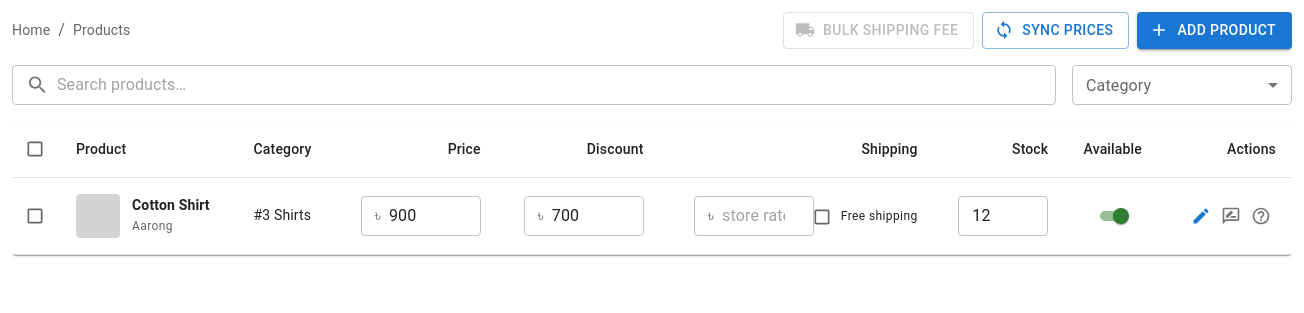
it: a rejected price edit surfaces the field error instead of a silent no-op
Expected: the text "Cotton Shirt" is shown, [132,194,210,214]
Replace the text in the 1st number field showing "900" with "0" at (435,216), box [389,196,481,236]
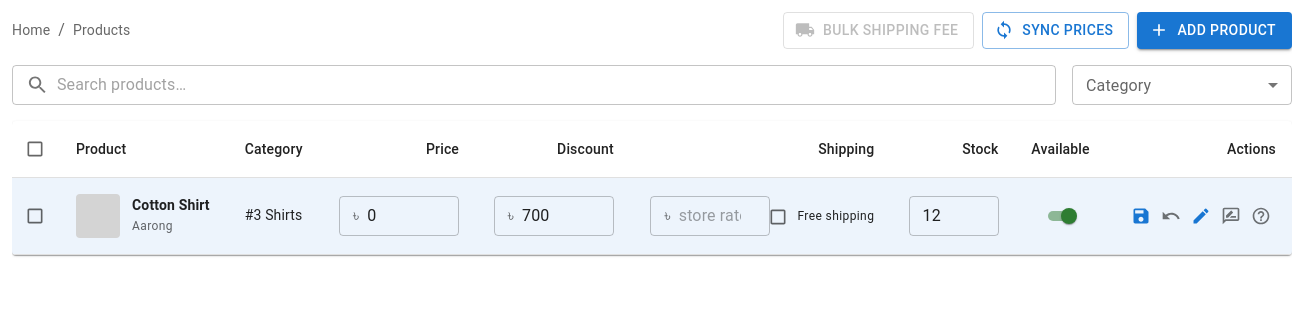
Click the button named "Save Cotton Shirt".
click(1141, 216)  # box [1126,200,1156,230]
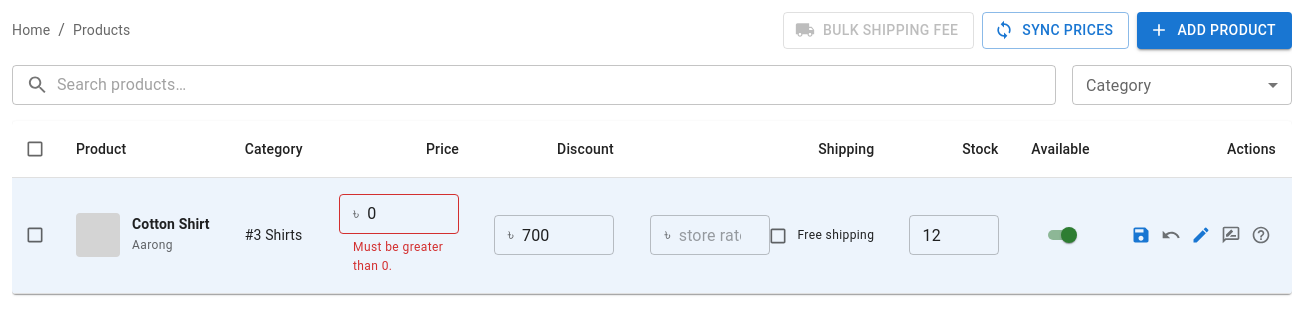
Result: the button named "Save Cotton Shirt" is shown at [1126,220,1156,250]
Result: the text "Must be greater than 0." is shown at [353,238,445,277]
